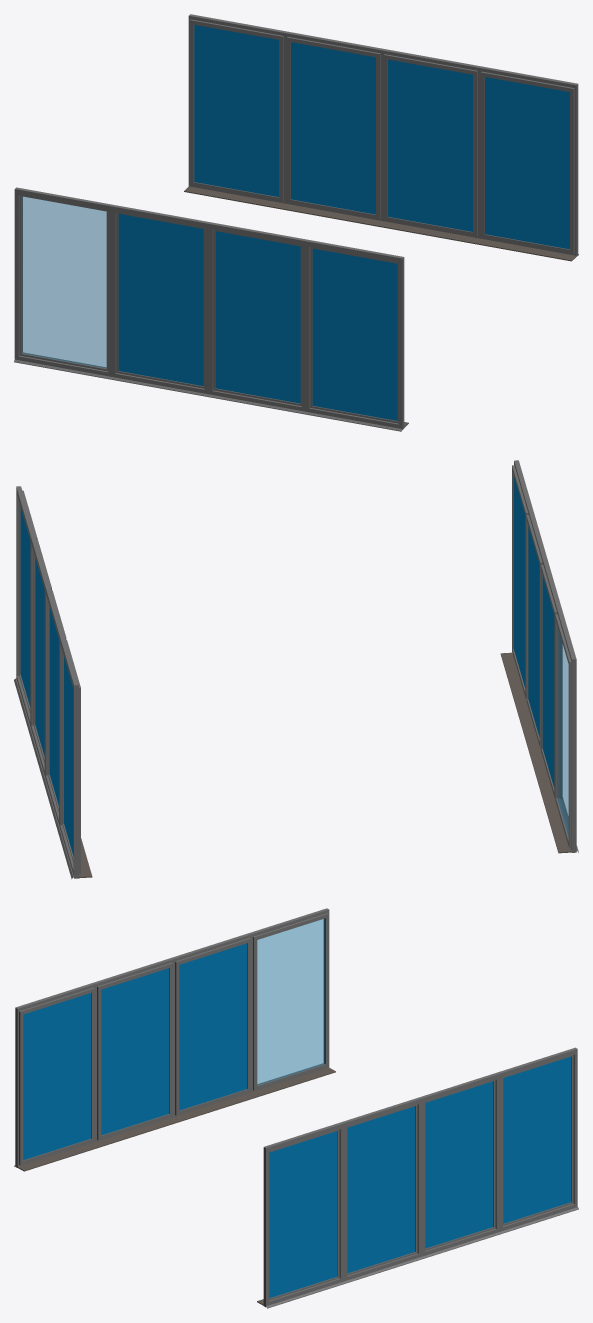
File: rac_basic_sample_project_Level_1_Living_Rm_IfcWindow.dae
3 renders of one model, top to bottom at view 1: azimuth 30°, elevation 25°; view 2: azimuth 150°, elevation 25°; view 3: azimuth 270°, elevation 25°, orthographic. The views are drawn at different scales.
Parts seen in each view (by area): view 1: 20nhVaBTTAJguMI9o6oBQF, 20nhVaBTTAJguMI9o6oDQ8, 20nhVaBTTAJguMI9o6oBQ9, 20nhVaBTTAJguMI9o6oBQ8, 20nhVaBTTAJguMI9o6oBQE, 20nhVaBTTAJguMI9o6oD4T, 20nhVaBTTAJguMI9o6oD2l, 20nhVaBTTAJguMI9o6oD5Q; view 2: 20nhVaBTTAJguMI9o6oD2l, 20nhVaBTTAJguMI9o6oBQ8, 20nhVaBTTAJguMI9o6oD5Q, 20nhVaBTTAJguMI9o6oD4T, 20nhVaBTTAJguMI9o6oDQ8, 20nhVaBTTAJguMI9o6oBQE, 20nhVaBTTAJguMI9o6oBQ9, 20nhVaBTTAJguMI9o6oBQF; view 3: 20nhVaBTTAJguMI9o6oDQ8, 20nhVaBTTAJguMI9o6oBQF, 20nhVaBTTAJguMI9o6oD5Q, 20nhVaBTTAJguMI9o6oD4T, 20nhVaBTTAJguMI9o6oD2l, 20nhVaBTTAJguMI9o6oBQE, 20nhVaBTTAJguMI9o6oBQ9, 20nhVaBTTAJguMI9o6oBQ8.
Boxes of the visible parts, box(x1,y1,x2,y2) form: 20nhVaBTTAJguMI9o6oBQF: box(475, 66, 578, 261); 20nhVaBTTAJguMI9o6oDQ8: box(305, 239, 408, 431); 20nhVaBTTAJguMI9o6oBQ9: box(281, 31, 383, 226); 20nhVaBTTAJguMI9o6oBQ8: box(184, 14, 286, 209); 20nhVaBTTAJguMI9o6oBQE: box(378, 49, 480, 243); 20nhVaBTTAJguMI9o6oD4T: box(208, 222, 306, 414); 20nhVaBTTAJguMI9o6oD2l: box(14, 187, 112, 379); 20nhVaBTTAJguMI9o6oD5Q: box(111, 205, 209, 396); 20nhVaBTTAJguMI9o6oD2l: box(544, 609, 578, 853); 20nhVaBTTAJguMI9o6oBQ8: box(57, 635, 92, 879); 20nhVaBTTAJguMI9o6oD5Q: box(529, 560, 564, 802); 20nhVaBTTAJguMI9o6oD4T: box(515, 510, 547, 753); 20nhVaBTTAJguMI9o6oDQ8: box(500, 460, 532, 702); 20nhVaBTTAJguMI9o6oBQE: box(28, 536, 51, 779); 20nhVaBTTAJguMI9o6oBQ9: box(43, 585, 66, 828); 20nhVaBTTAJguMI9o6oBQF: box(14, 486, 37, 729); 20nhVaBTTAJguMI9o6oDQ8: box(14, 983, 102, 1171); 20nhVaBTTAJguMI9o6oBQF: box(257, 1122, 344, 1308); 20nhVaBTTAJguMI9o6oD5Q: box(171, 933, 257, 1121); 20nhVaBTTAJguMI9o6oD4T: box(93, 958, 180, 1146); 20nhVaBTTAJguMI9o6oD2l: box(249, 908, 335, 1096); 20nhVaBTTAJguMI9o6oBQE: box(342, 1097, 422, 1283); 20nhVaBTTAJguMI9o6oBQ9: box(420, 1072, 500, 1258); 20nhVaBTTAJguMI9o6oBQ8: box(498, 1047, 578, 1233).
Bounding box in the file's own units: 8.77 × 8.68 × 2.71.
